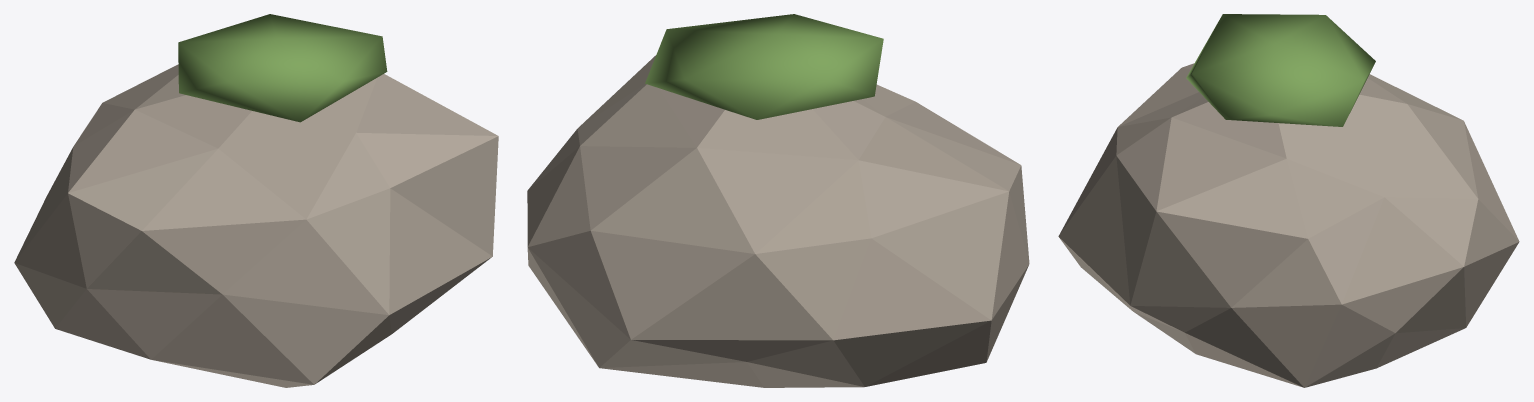
File: hd_boulder.gltf
3 renders of one model, left to right at view 1: azimuth 30°, elevation 25°; view 2: azimuth 150°, elevation 25°; view 3: azimuth 270°, elevation 25°, orthographic. The views are drawn at different scales.
Visible parts, largest first — view 1: rock, mosscap; view 2: rock, mosscap; view 3: rock, mosscap.
Part boxes in pixels (x1,y1,x2,y2): rock: [14, 64, 498, 387]; mosscap: [178, 14, 387, 122]; rock: [527, 55, 1029, 387]; mosscap: [645, 14, 883, 119]; rock: [1058, 63, 1519, 387]; mosscap: [1186, 14, 1375, 126].
Size of the model in its own units: 1.92 by 1.34 by 1.83.
